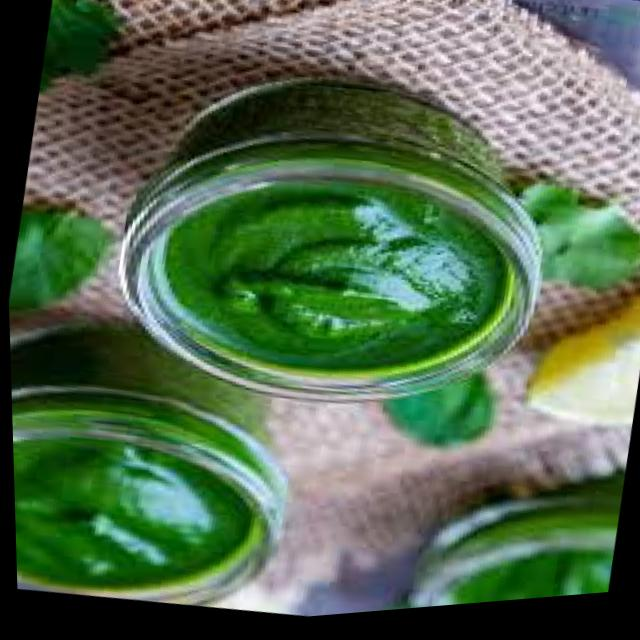GREEN CHUTNEY: (78, 100, 529, 401), (12, 392, 301, 605), (398, 496, 619, 609)
